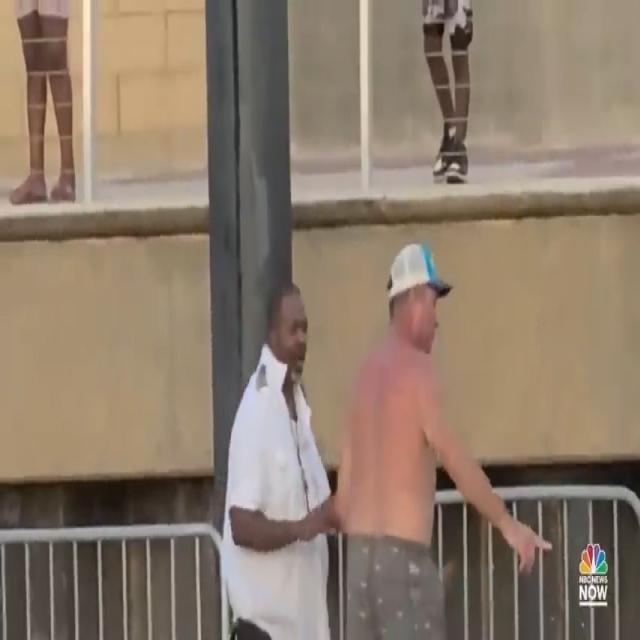non-fight: (190, 224, 560, 640)
